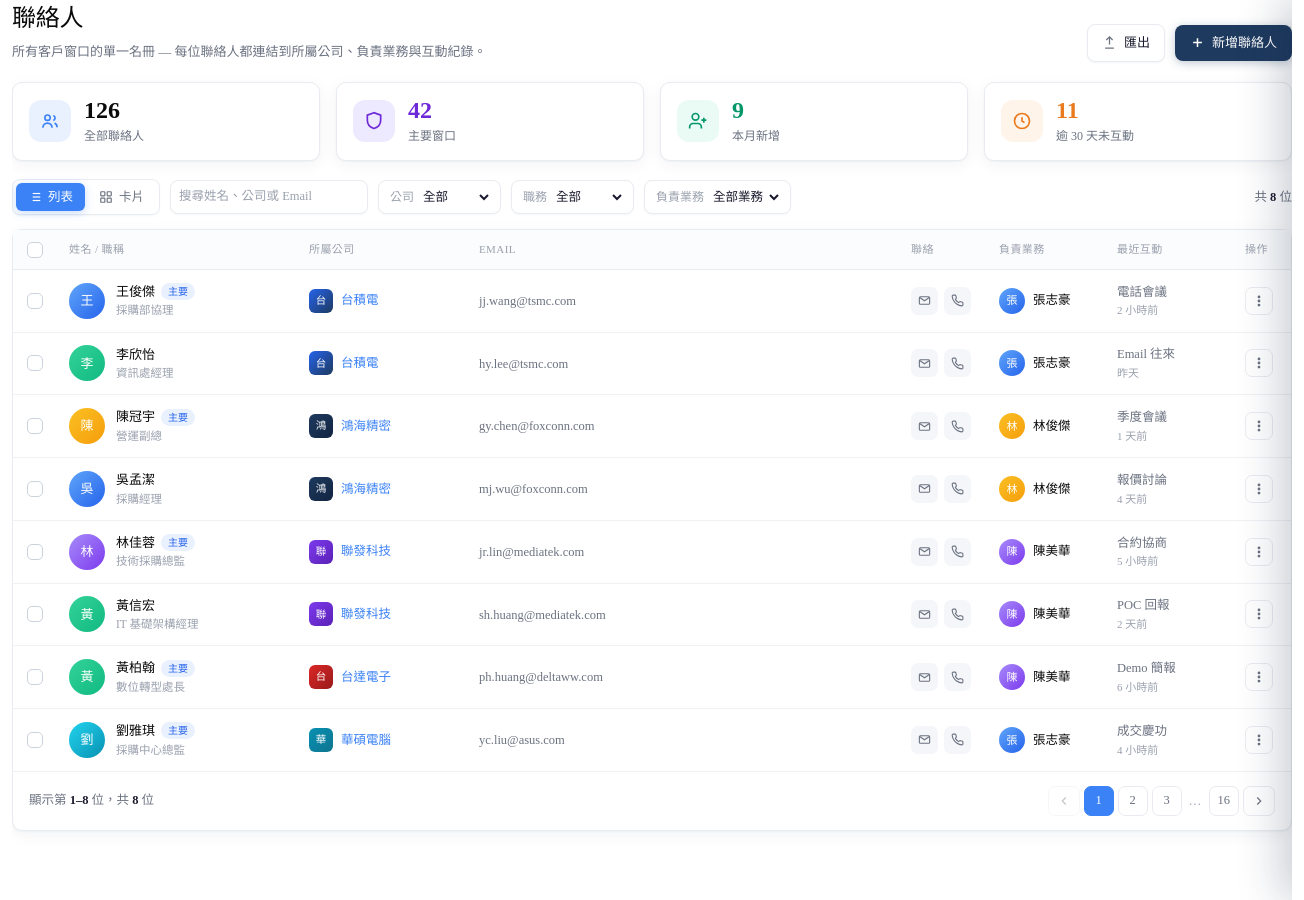
Test case: Contacts 搜尋 › 依公司名稱過濾
Type "鴻海" into the search field named "搜尋聯絡人" at (269, 197), box [179,181,359,213]
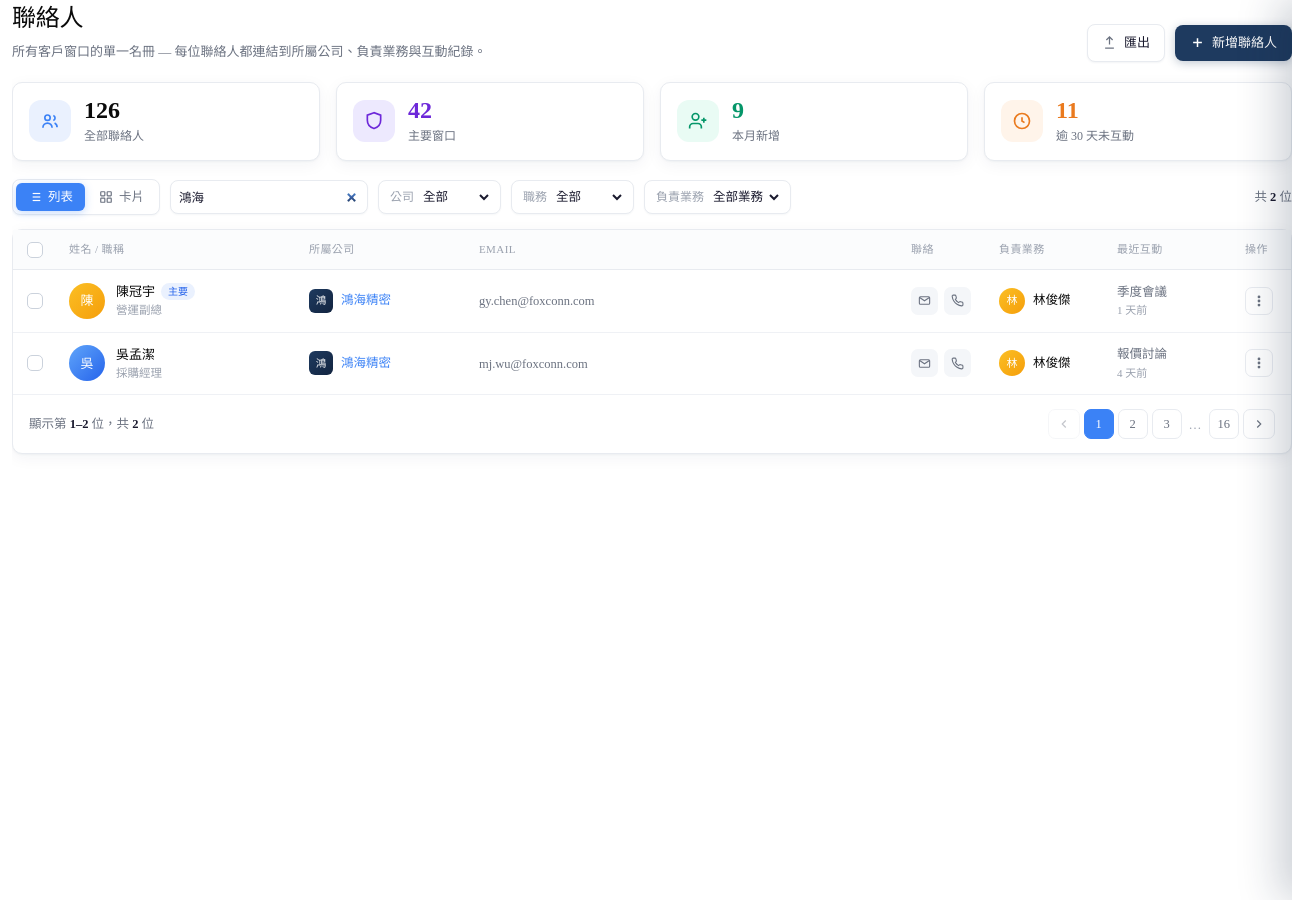
Expected: the text "陳冠宇" is shown, [116,284,155,299]
Now the text "王俊傑" is gone
